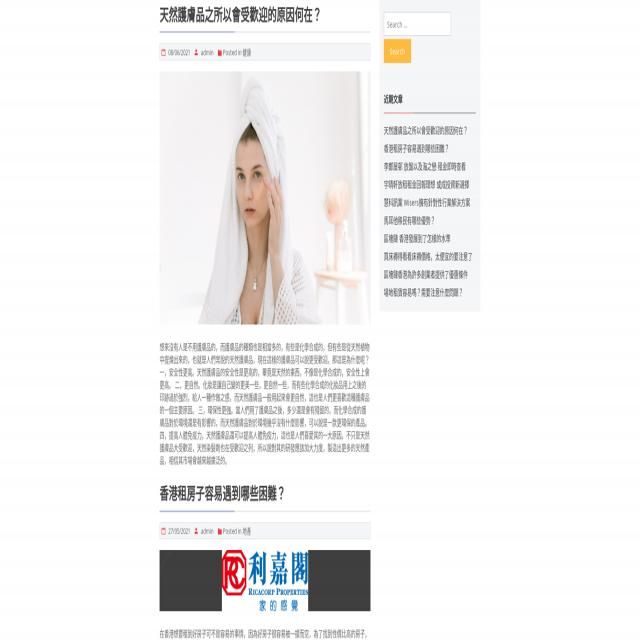button: (160, 72, 370, 324), (222, 551, 308, 610), (384, 39, 411, 64)
field: (384, 12, 451, 37)
